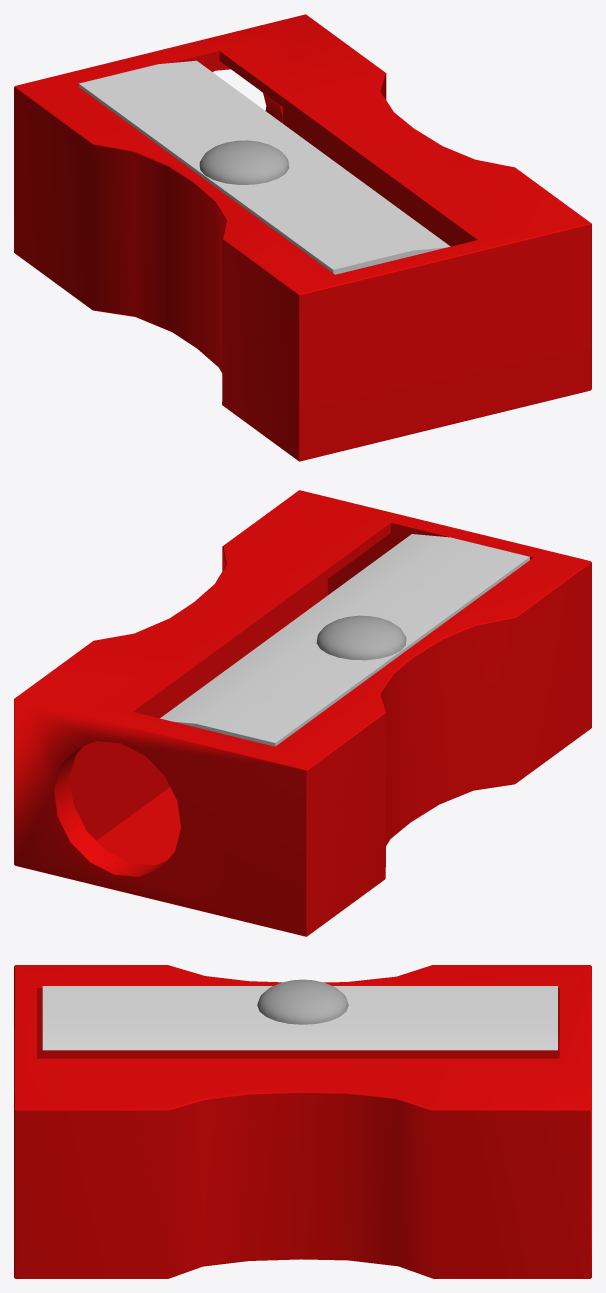
Rendered from SM_Sharpener 1.fbx.
The picture shows the model from 3 angles, top to bottom: view 1: azimuth 30°, elevation 25°; view 2: azimuth 150°, elevation 25°; view 3: azimuth 270°, elevation 25°; orthographic projection.
Visible parts, largest first — view 1: Sharpener; view 2: Sharpener; view 3: Sharpener.
Boxes of the visible parts, x1=… form: Sharpener: x1=14, y1=14, x2=591, y2=461; Sharpener: x1=14, y1=490, x2=591, y2=936; Sharpener: x1=14, y1=965, x2=591, y2=1278.
Size of the model in its own units: 13.57 by 8.28 by 22.84.
